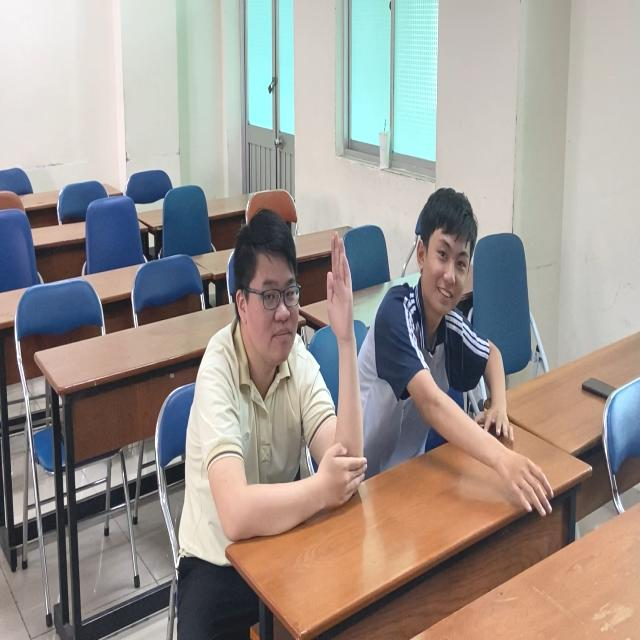raise_hand: (187, 199, 370, 564)
